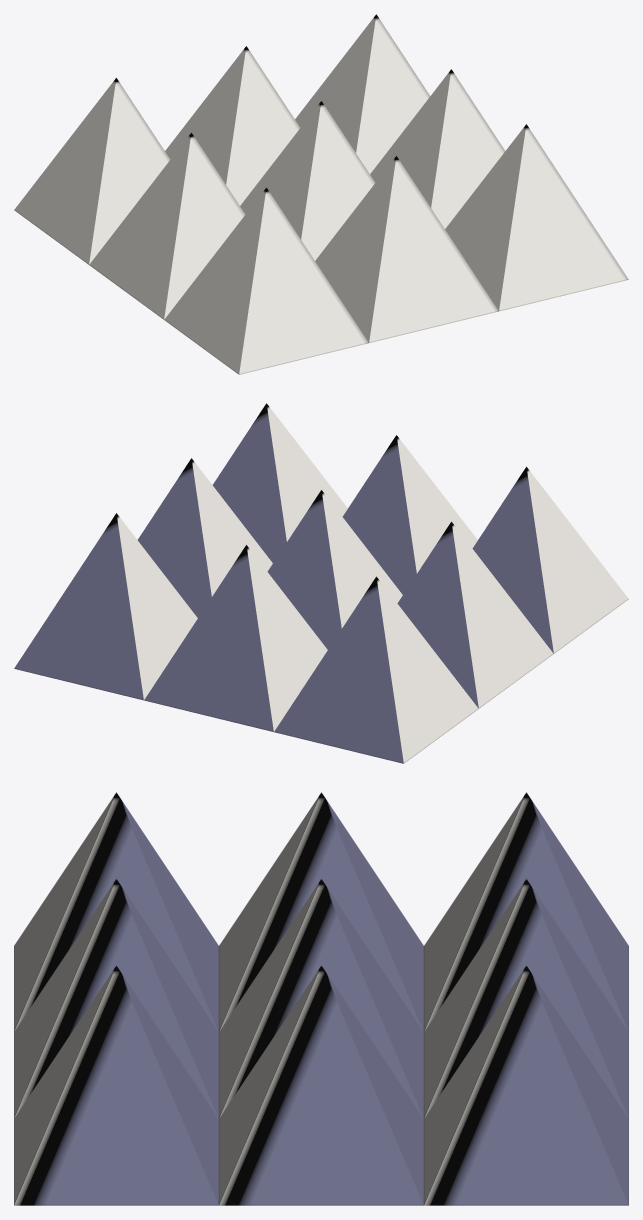
File: spikes.obj
3 renders of one model, top to bottom at view 1: azimuth 30°, elevation 25°; view 2: azimuth 150°, elevation 25°; view 3: azimuth 270°, elevation 25°, orthographic. The views are drawn at different scales.
Visible parts, largest first — view 1: pPyramid1, pPyramid3, pPyramid2, pPyramid4, pPyramid7, pPyramid9, pPyramid6, pPyramid8, pPyramid5; view 2: pPyramid7, pPyramid9, pPyramid8, pPyramid1, pPyramid4, pPyramid3, pPyramid2, pPyramid6, pPyramid5; view 3: pPyramid3, pPyramid6, pPyramid9, pPyramid1, pPyramid4, pPyramid7, pPyramid2, pPyramid5, pPyramid8.
Boxes of the visible parts, left/top/right/bottom form: pPyramid1: left=164, top=187, right=368, bottom=374; pPyramid3: left=445, top=124, right=628, bottom=311; pPyramid2: left=315, top=156, right=498, bottom=342; pPyramid4: left=89, top=132, right=245, bottom=319; pPyramid7: left=14, top=77, right=170, bottom=264; pPyramid9: left=295, top=14, right=430, bottom=173; pPyramid6: left=370, top=69, right=505, bottom=228; pPyramid8: left=165, top=46, right=300, bottom=205; pPyramid5: left=240, top=101, right=375, bottom=260; pPyramid7: left=274, top=576, right=478, bottom=763; pPyramid9: left=14, top=513, right=197, bottom=700; pPyramid8: left=144, top=545, right=327, bottom=731; pPyramid1: left=472, top=466, right=628, bottom=653; pPyramid4: left=397, top=521, right=553, bottom=708; pPyramid3: left=212, top=403, right=347, bottom=562; pPyramid2: left=342, top=435, right=477, bottom=594; pPyramid6: left=137, top=458, right=272, bottom=617; pPyramid5: left=267, top=490, right=402, bottom=649; pPyramid3: left=14, top=965, right=218, bottom=1205; pPyramid6: left=219, top=965, right=423, bottom=1205; pPyramid9: left=424, top=965, right=628, bottom=1205; pPyramid1: left=14, top=792, right=218, bottom=1031; pPyramid4: left=219, top=792, right=423, bottom=1031; pPyramid7: left=424, top=792, right=628, bottom=1031; pPyramid2: left=14, top=879, right=218, bottom=1118; pPyramid5: left=219, top=879, right=423, bottom=1118; pPyramid8: left=424, top=879, right=628, bottom=1118.
Bounding box in the file's own units: 3 × 1.06 × 3.
